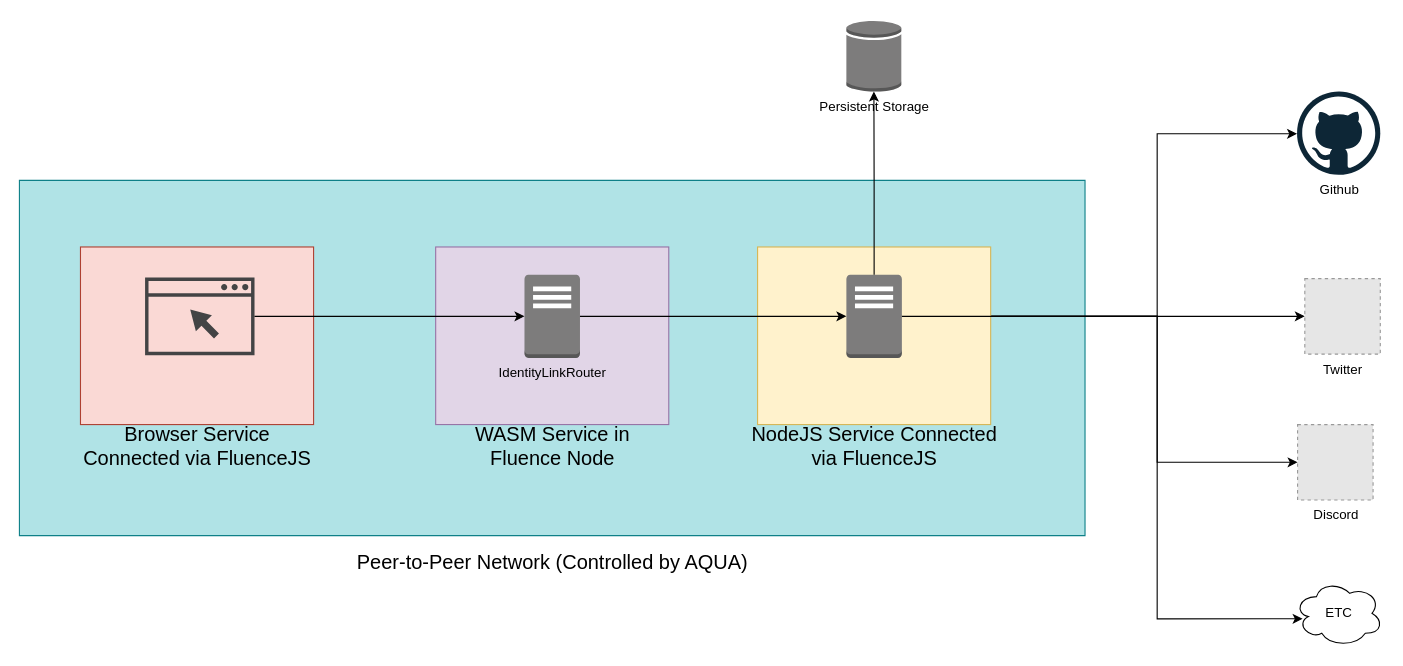
The diagram is 1403 pixels wide and 666 high, and some of its shapes have lost their labels. Grey dashed boxes stand in for pictures. Each missing label, with the box of its shape:
Browser App: (145, 277, 254, 355)
IdentityLinkService: (845, 274, 902, 358)
